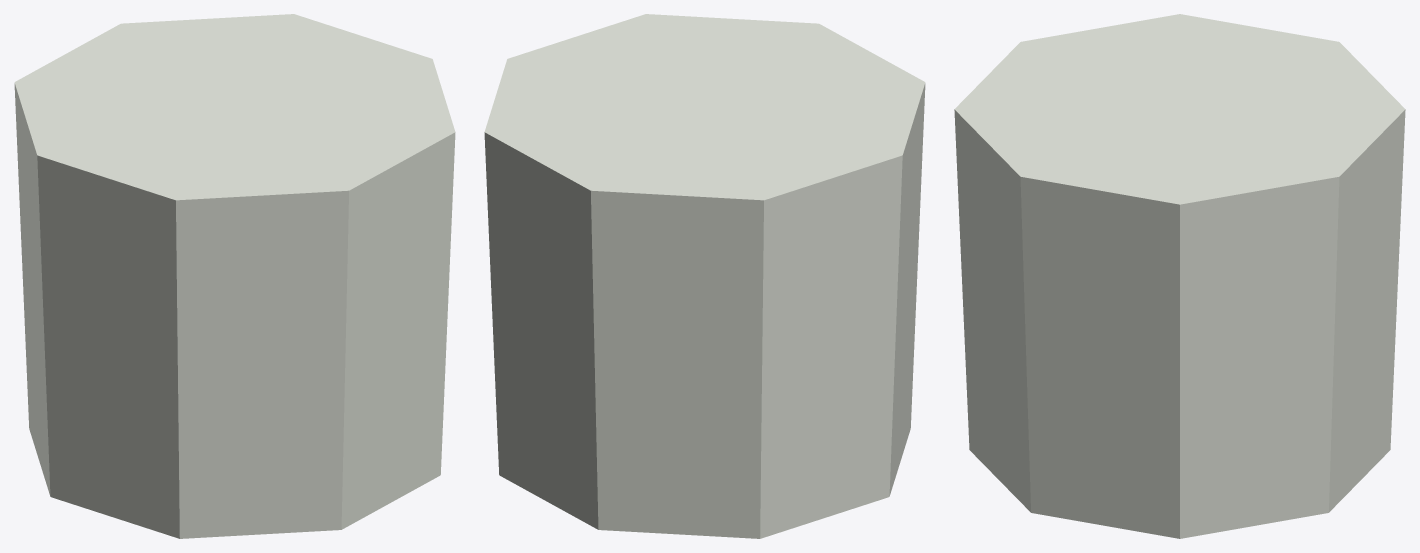
The model's file is acc_hat_cook.glb.
3 renders of one model, left to right at view 1: azimuth 30°, elevation 25°; view 2: azimuth 150°, elevation 25°; view 3: azimuth 270°, elevation 25°, orthographic.
Parts seen in each view (by area): view 1: acc_hat_cook; view 2: acc_hat_cook; view 3: acc_hat_cook.
Boxes of the visible parts, x1,y1,x2,y2 form: acc_hat_cook: (14,14,455,538); acc_hat_cook: (484,14,925,538); acc_hat_cook: (954,14,1405,538).
Bounding box in the file's own units: 0.6 × 0.5 × 0.6.
1 material, 1 textured.
